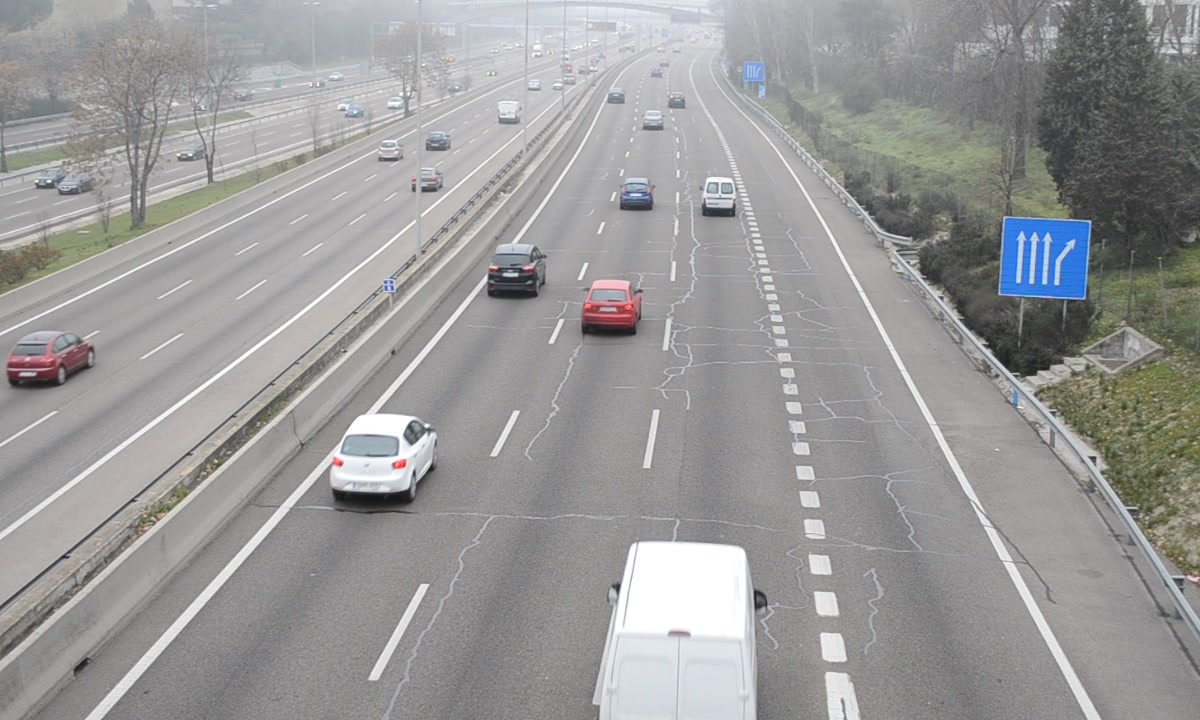car: (331, 415, 436, 493), (582, 279, 640, 330), (488, 244, 544, 294), (619, 177, 654, 211), (641, 109, 664, 131)
van: (591, 542, 756, 720), (703, 175, 737, 215)
